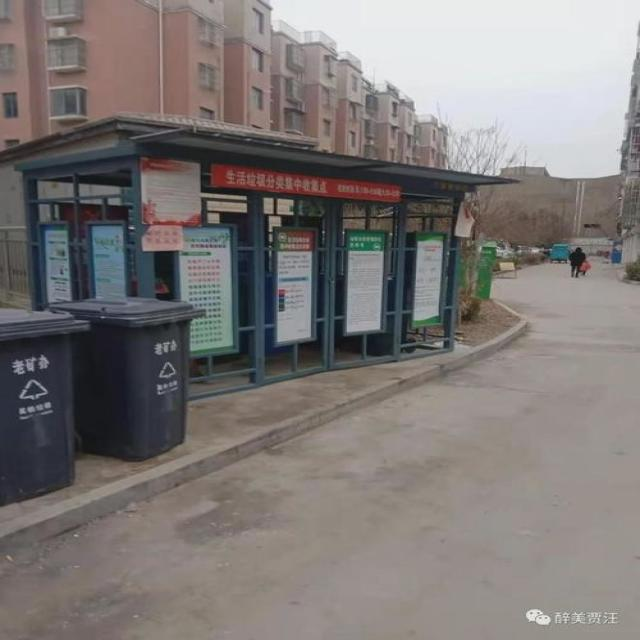garbage_bin: (49, 299, 206, 462), (0, 304, 87, 506)
